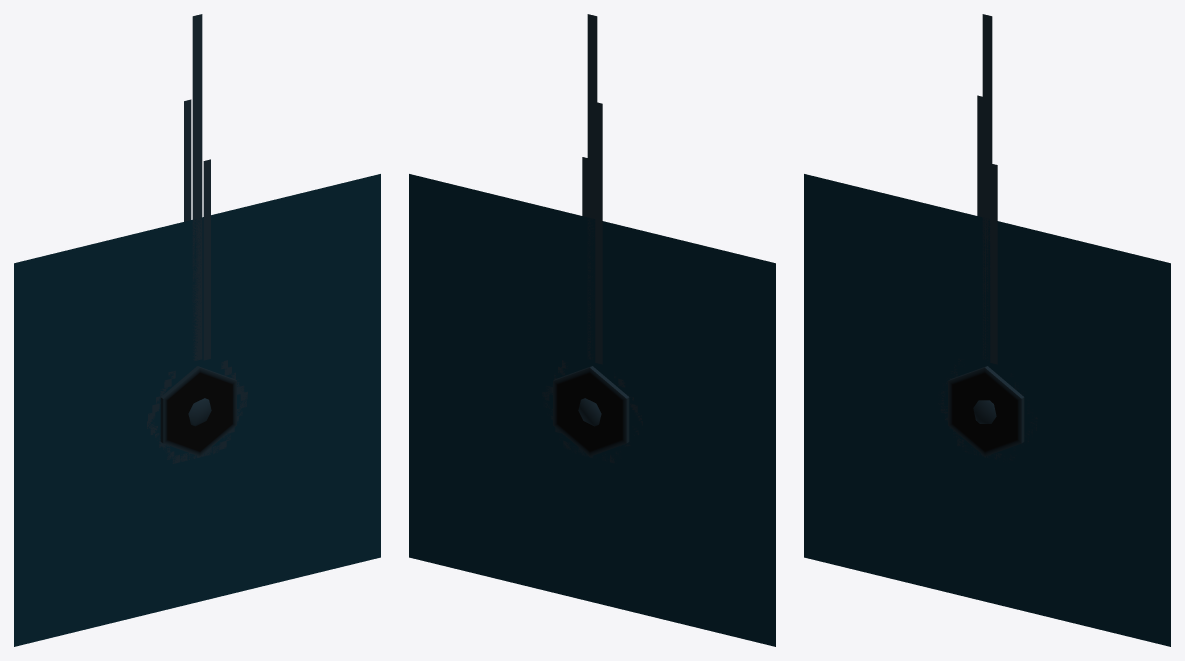
The model's file is daemon_token.glb.
The picture shows the model from 3 angles, left to right: view 1: azimuth 30°, elevation 25°; view 2: azimuth 150°, elevation 25°; view 3: azimuth 330°, elevation 25°; orthographic projection.
Parts seen in each view (by area): view 1: beacon_halo, beacon_beam, token_plate, token_ring; view 2: beacon_halo, token_plate, beacon_beam, token_ring; view 3: beacon_halo, beacon_beam, token_plate, token_ring.
Part boxes in pixels (box(x1,y1,x2,y2)): beacon_halo: box(14, 174, 380, 646); beacon_beam: box(184, 14, 210, 360); token_plate: box(160, 366, 236, 456); token_ring: box(147, 360, 247, 463); beacon_halo: box(409, 174, 775, 646); token_plate: box(553, 366, 629, 456); beacon_beam: box(582, 14, 602, 364); token_ring: box(542, 360, 642, 463); beacon_halo: box(804, 174, 1170, 646); beacon_beam: box(977, 14, 997, 364); token_plate: box(948, 366, 1024, 456); token_ring: box(938, 358, 1037, 462).
Bounding box in the file's own units: 0.5 × 0.765 × 0.0153.
